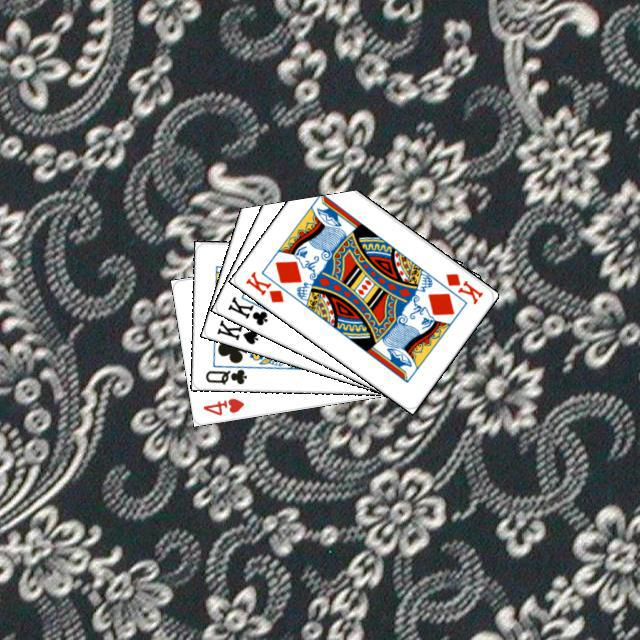4h: (198, 393, 246, 417)
Kc: (223, 290, 278, 327)
Kd: (240, 266, 285, 304), (441, 268, 485, 306)
Ks: (212, 315, 260, 346)
Qc: (200, 359, 253, 386)
